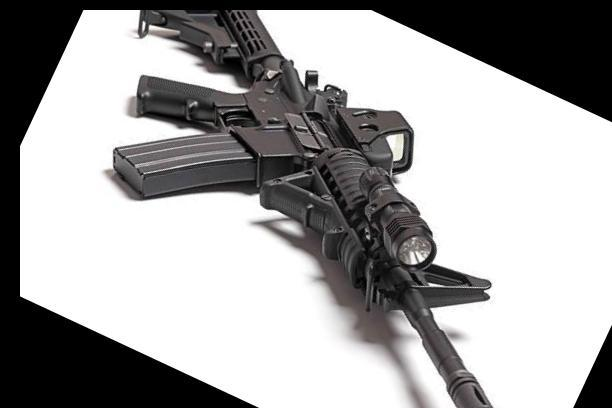larga: (112, 10, 494, 408)
